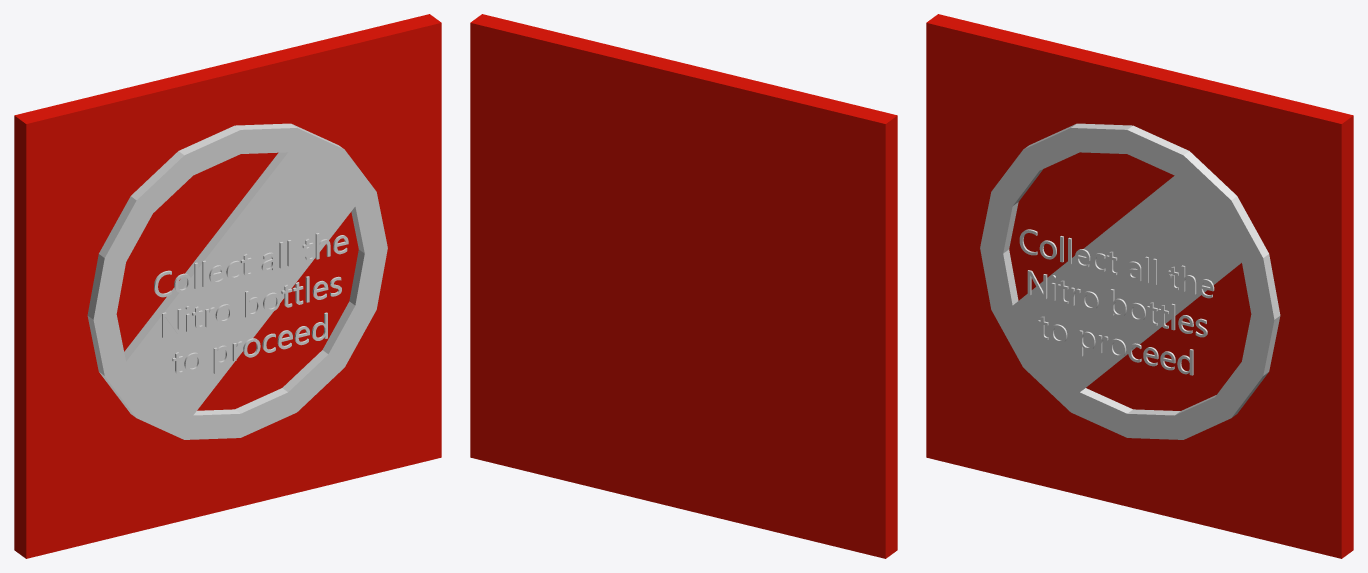
Rendered from blockedpath.fbx.
The picture shows the model from 3 angles, left to right: view 1: azimuth 30°, elevation 25°; view 2: azimuth 150°, elevation 25°; view 3: azimuth 330°, elevation 25°; orthographic projection.
Visible parts, largest first — view 1: Plane, Plane.001, Text; view 2: Plane; view 3: Plane, Plane.001, Text.
Boxes of the visible parts, x1=… form: Plane: x1=14, y1=14, x2=441, y2=558; Plane.001: x1=87, y1=123, x2=387, y2=439; Text: x1=154, y1=233, x2=348, y2=374; Plane: x1=470, y1=14, x2=897, y2=558; Plane: x1=926, y1=14, x2=1353, y2=558; Plane.001: x1=980, y1=123, x2=1280, y2=439; Text: x1=1019, y1=229, x2=1214, y2=375.
Bounding box in the file's own units: 606 × 606 × 77.98.
